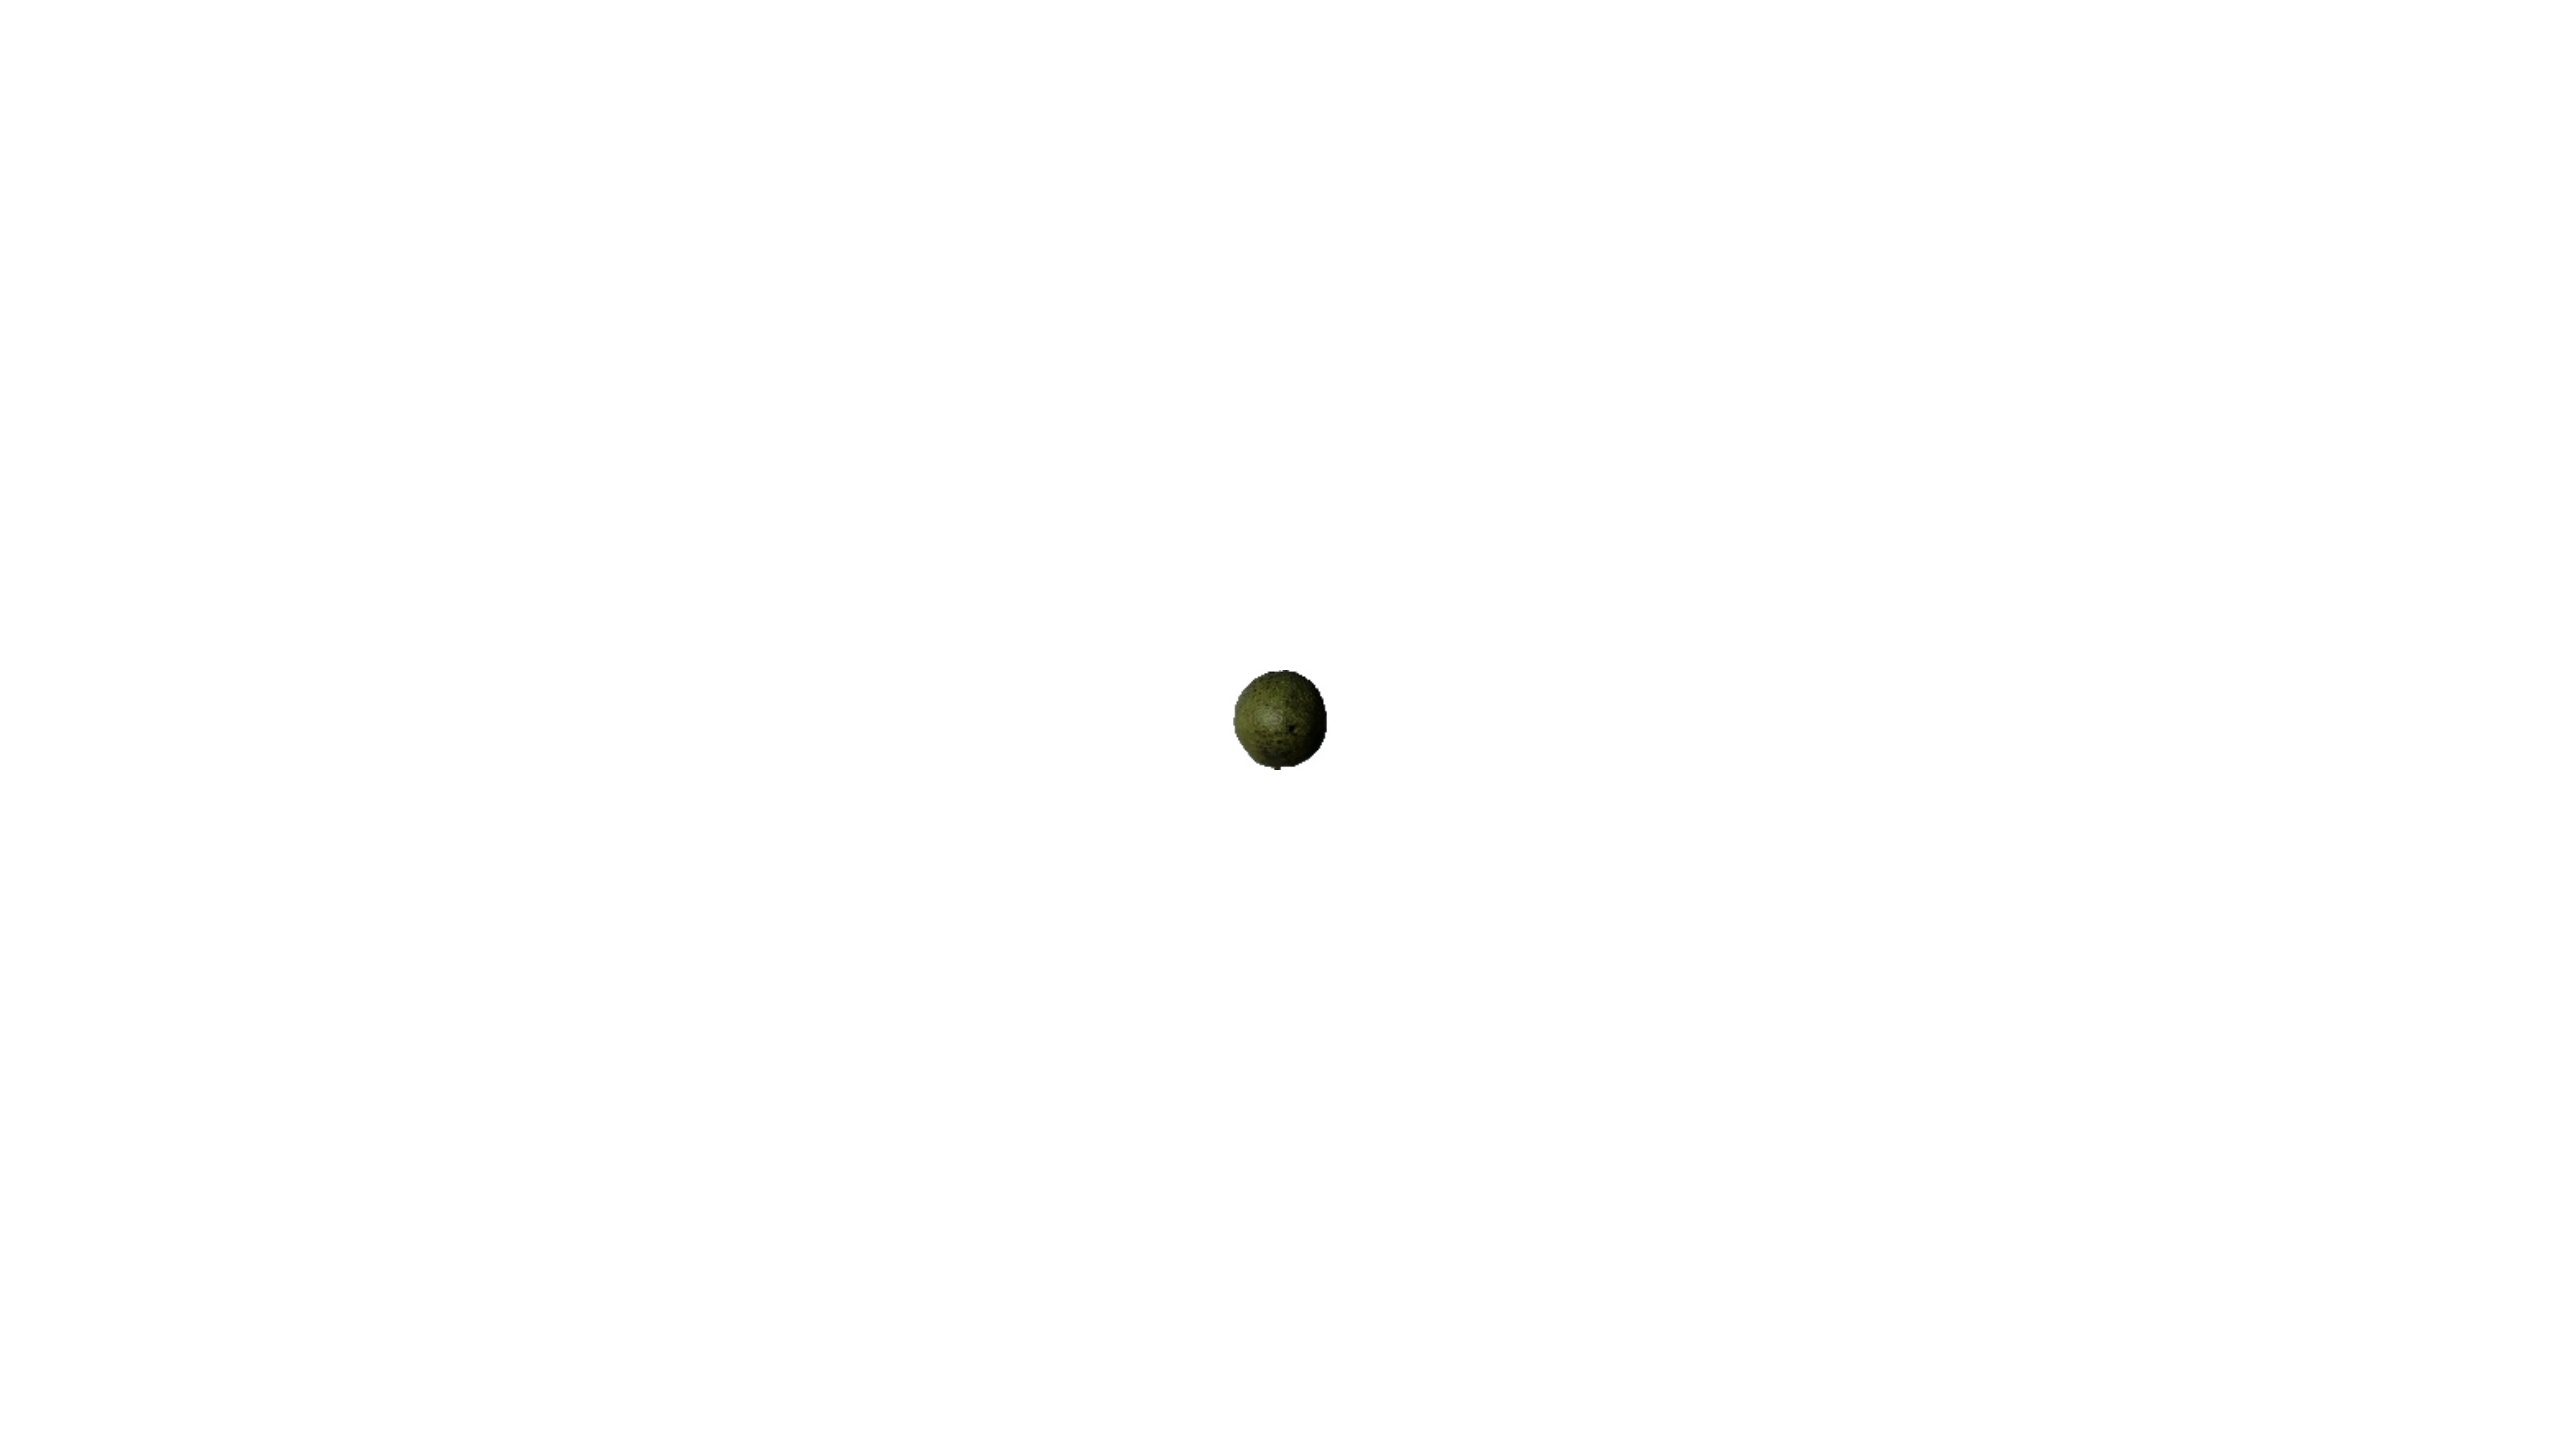abacate: (1227, 668, 1335, 768)
